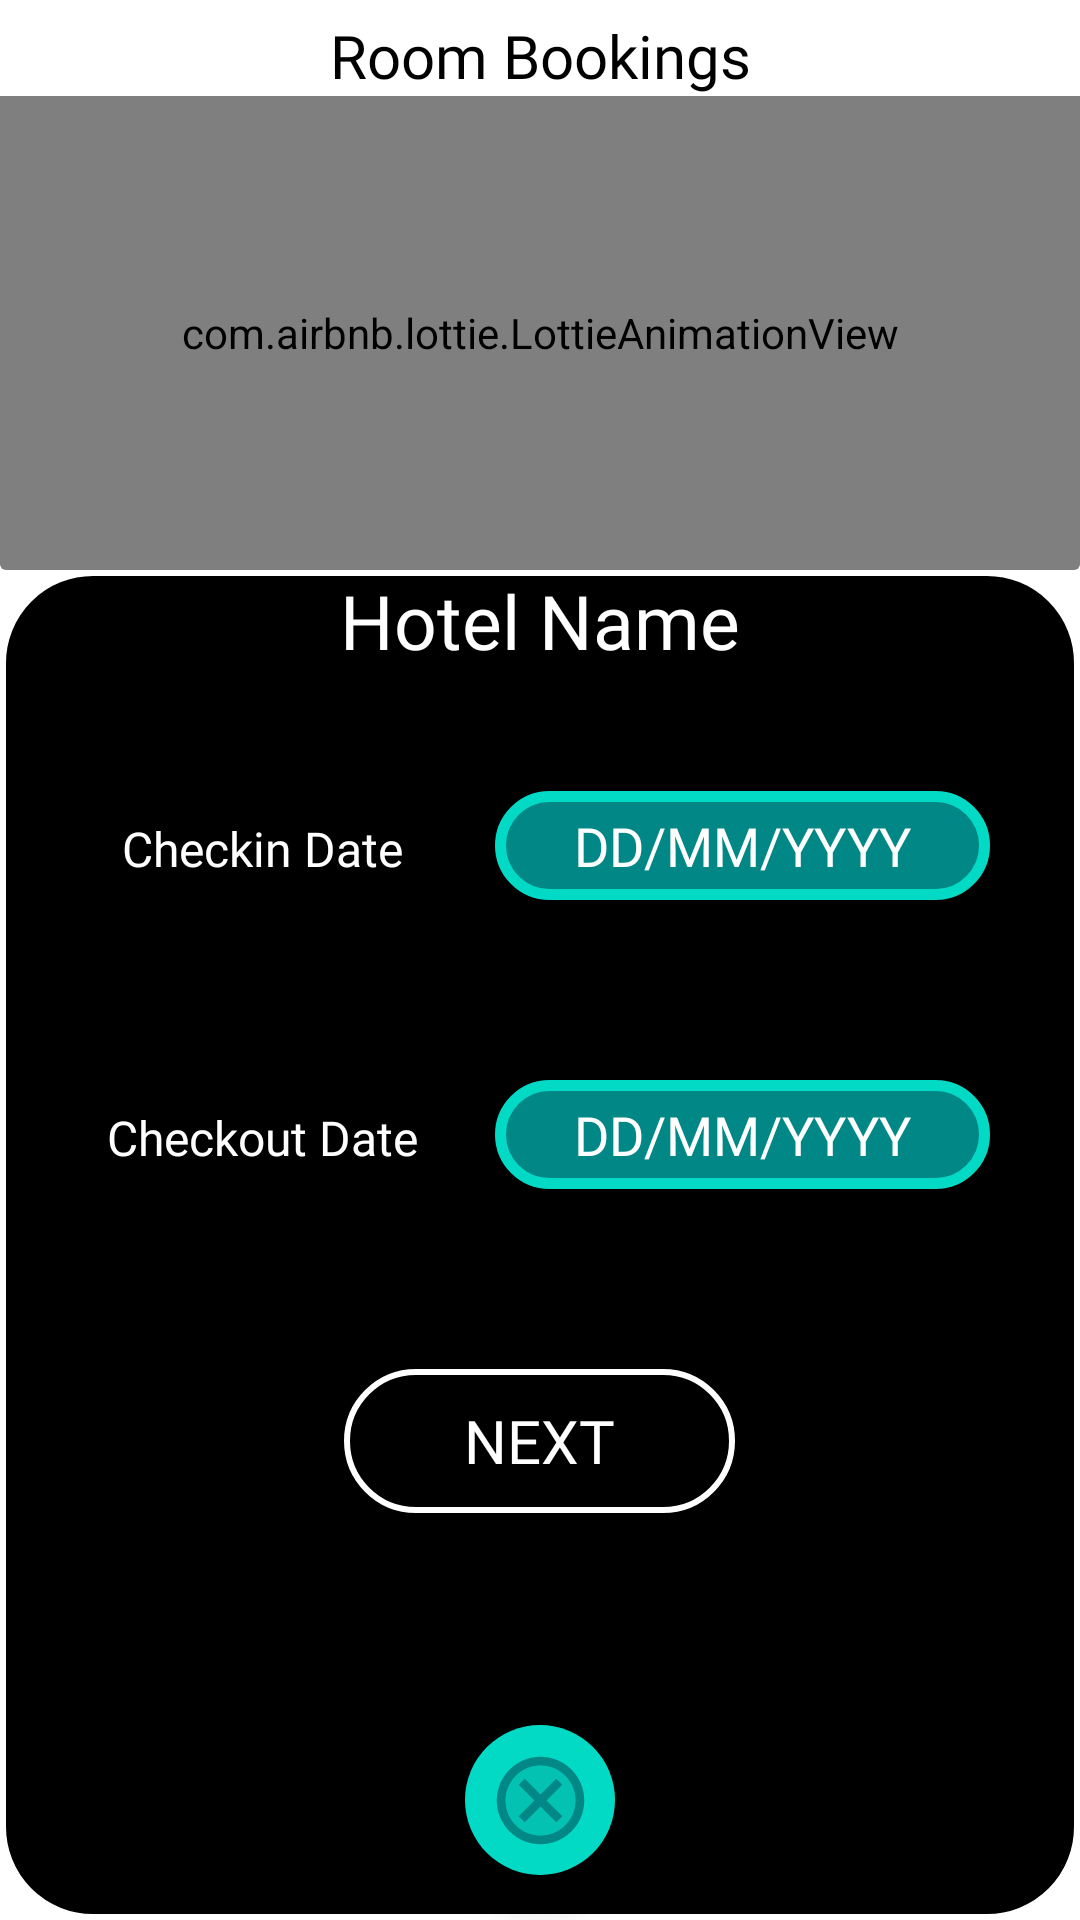

Locate icon controls on the screen. Image size 1080w x 1920h, boxes as (x1, y1, x2, y2).
cancel: (465, 1725, 615, 1875)
